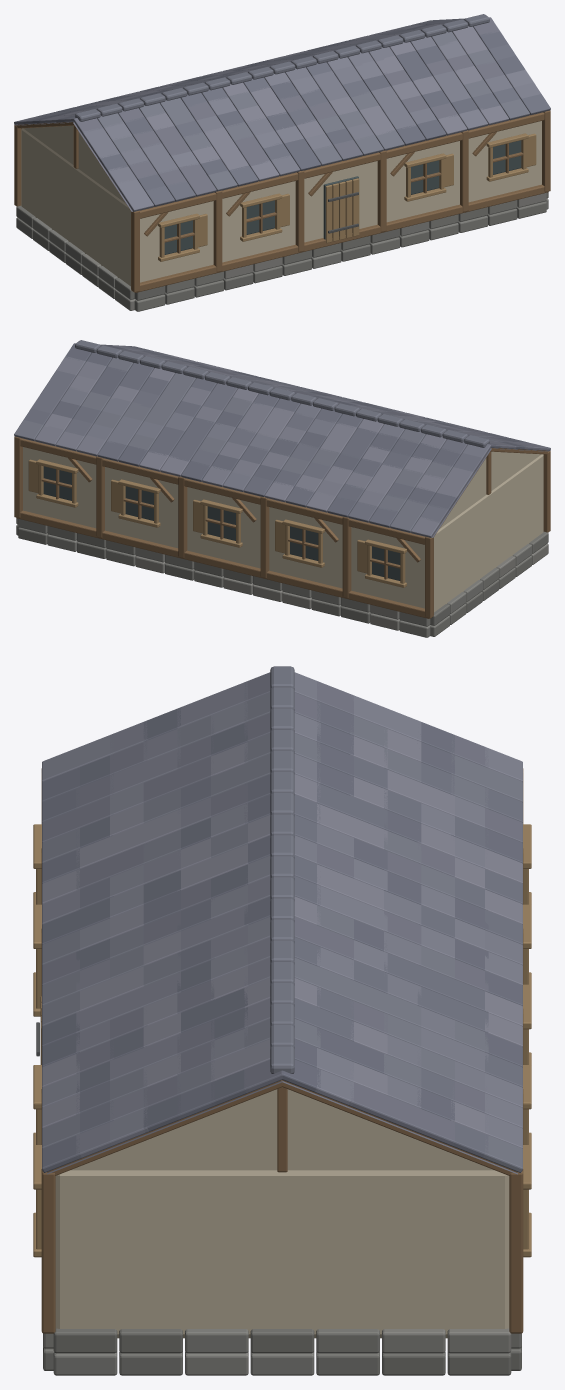
File: c01_market_6x3.glb
3 renders of one model, top to bottom at view 1: azimuth 30°, elevation 25°; view 2: azimuth 150°, elevation 25°; view 3: azimuth 270°, elevation 25°, orthographic. The views are drawn at different scales.
Parts seen in each view (by area): view 1: Walls, Roof; view 2: Walls, Roof; view 3: Roof, Walls.
Boxes of the visible parts, x1,y1,x2,y2 form: Walls: [14, 110, 550, 311]; Roof: [14, 14, 550, 211]; Walls: [14, 436, 550, 637]; Roof: [14, 340, 550, 537]; Roof: [42, 666, 522, 1174]; Walls: [33, 768, 531, 1375].
Size of the model in its own units: 5.7 by 2 by 2.94.
Materials: 1 (1 with a texture image).
